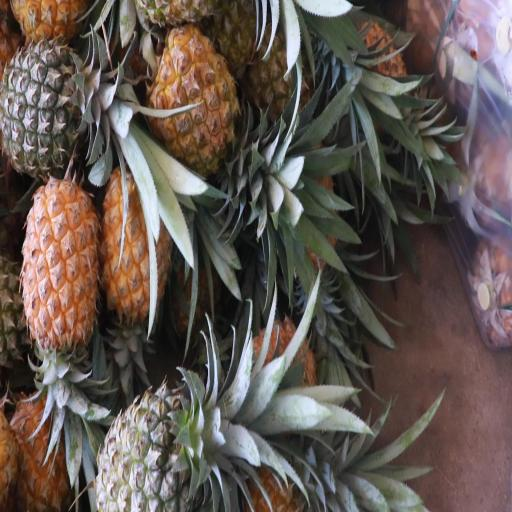Pineapple - v8 v1: (151, 24, 268, 164), (23, 172, 95, 386), (102, 169, 173, 333)
